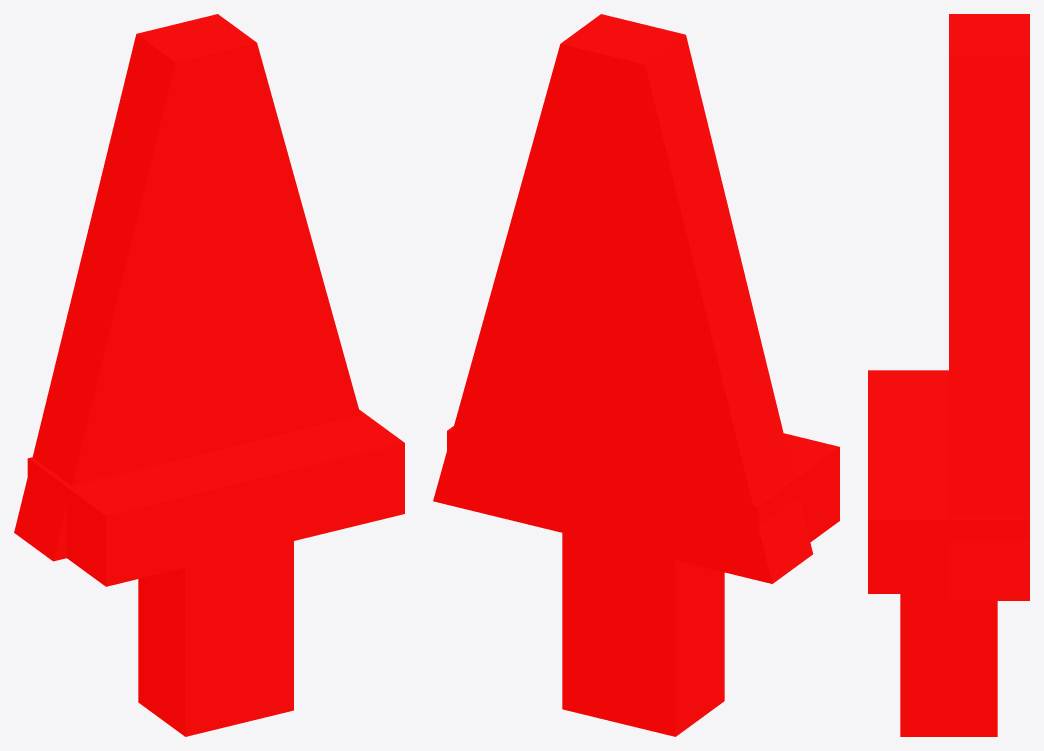
File: Items.fbx_Shovel.fbx
3 views of the same model, side by side, from view 1: azimuth 30°, elevation 25°; view 2: azimuth 150°, elevation 25°; view 3: azimuth 270°, elevation 25° (orthographic). The views are drawn at different scales.
Parts seen in each view (by area): view 1: IN.010, IN.007, IN.006; view 2: IN.010, IN.007, IN.006; view 3: IN.010, IN.007, IN.006.
Boxes of the visible parts, bbox=[...] form: IN.010: bbox=[14, 14, 360, 561]; IN.007: bbox=[27, 409, 404, 586]; IN.006: bbox=[138, 541, 293, 736]; IN.010: bbox=[433, 14, 812, 583]; IN.007: bbox=[447, 426, 839, 580]; IN.006: bbox=[562, 533, 724, 736]; IN.010: bbox=[949, 14, 1029, 600]; IN.007: bbox=[868, 370, 1029, 593]; IN.006: bbox=[900, 594, 997, 736].
Bounding box in the file's own units: 24 × 46 × 10.
